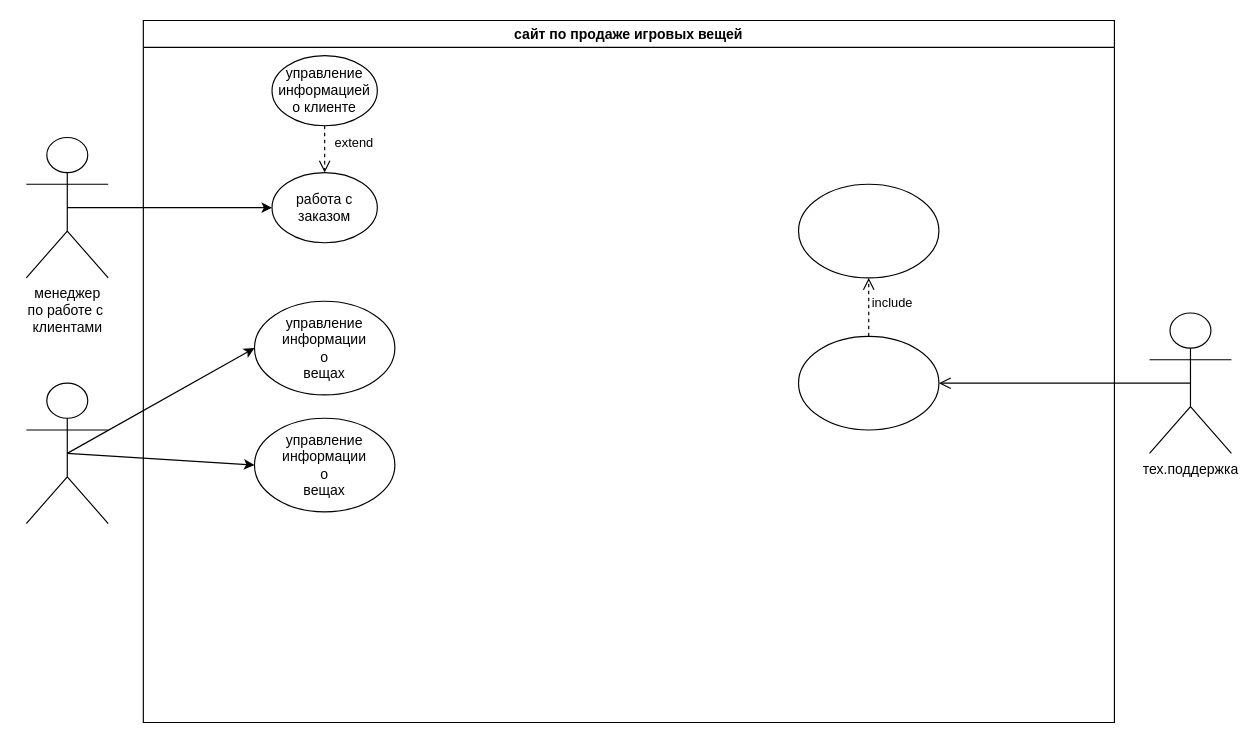
Some shapes in this 1259 by 743 pixel diagram are drawn without their labels. Each missing label, with the centre of its shape:
заявка клиента на помощь: [868,230]
менеджер по снабжению: [66,453]
помощь клиенту: [868,382]
